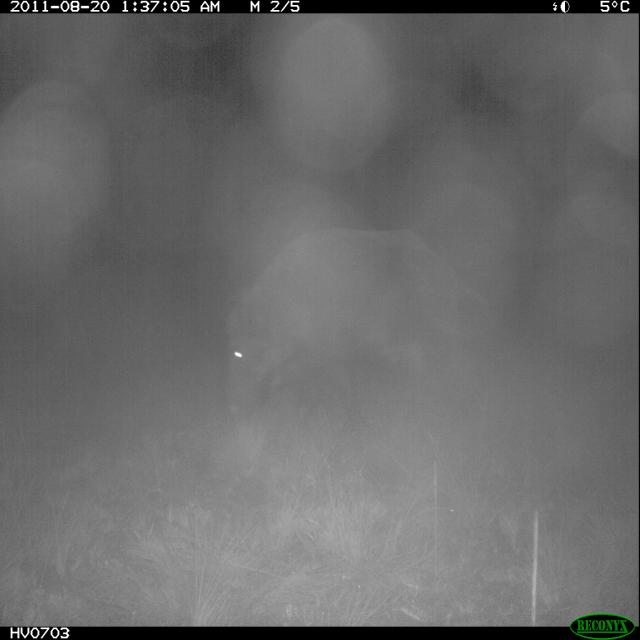boar: (213, 183, 475, 448)
